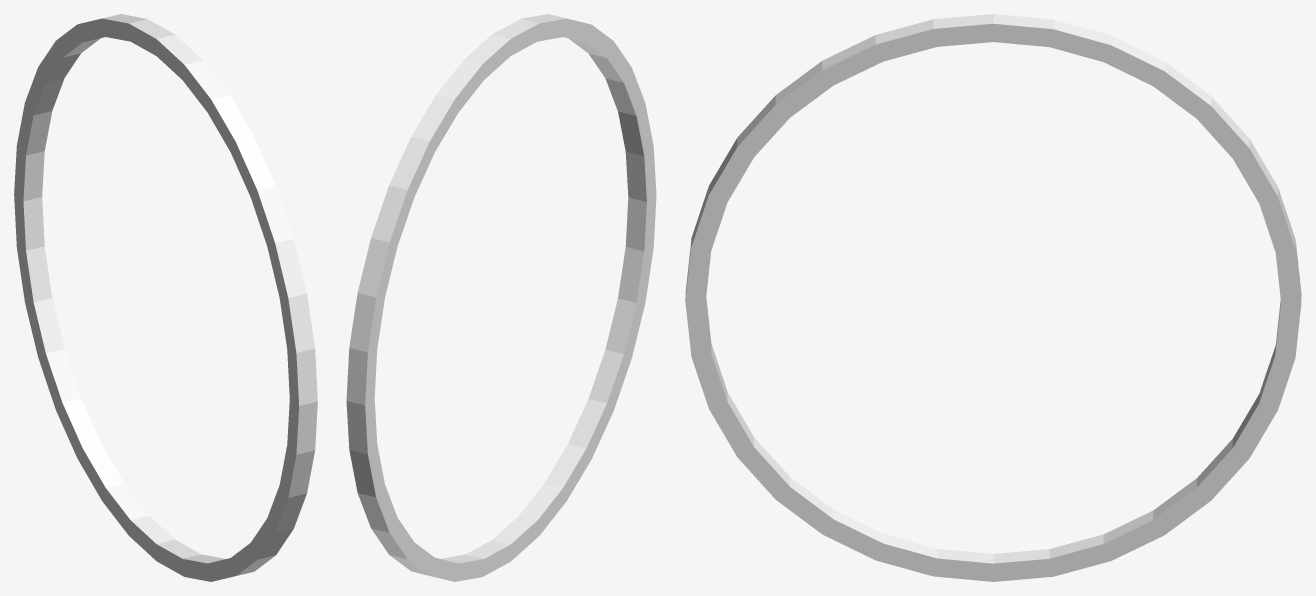
File: Ring.fbx
The picture shows the model from 3 angles, left to right: view 1: azimuth 30°, elevation 25°; view 2: azimuth 150°, elevation 25°; view 3: azimuth 270°, elevation 25°; orthographic projection. The views are drawn at different scales.
Parts seen in each view (by area): view 1: Circle; view 2: Circle; view 3: Circle.
Boxes of the visible parts, box(x1,y1,x2,y2) form: Circle: box(14, 14, 317, 581); Circle: box(346, 14, 656, 581); Circle: box(685, 14, 1301, 581).
Size of the model in its own units: 9.32 by 214 by 214.
